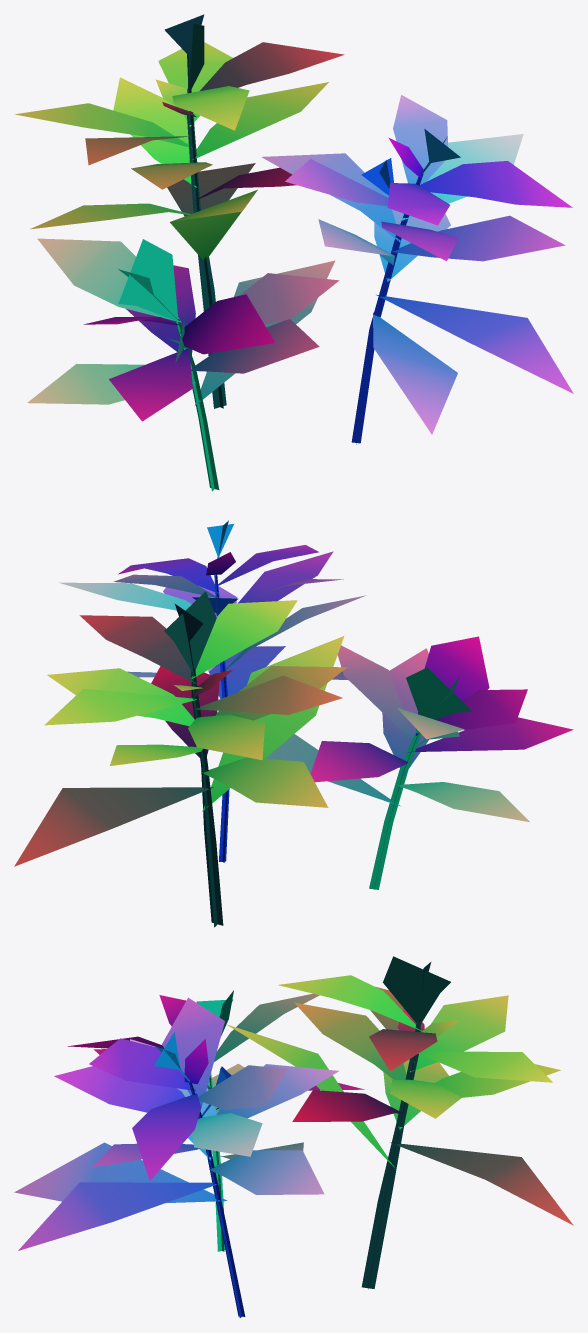
Rendered from xefmcgrqx_VarF_LOD1.fbx.
3 views of the same model, one above another, from view 1: azimuth 30°, elevation 25°; view 2: azimuth 150°, elevation 25°; view 3: azimuth 270°, elevation 25° (orthographic). The views are drawn at different scales.
Parts seen in each view (by area): view 1: _81wx_VarF_LOD4; view 2: _81wx_VarF_LOD4; view 3: _81wx_VarF_LOD4.
Part boxes in pixels (left/top/right/bottom): _81wx_VarF_LOD4: left=15, top=14, right=573, bottom=491; _81wx_VarF_LOD4: left=14, top=520, right=573, bottom=927; _81wx_VarF_LOD4: left=14, top=956, right=573, bottom=1317.
Size of the model in its own units: 57.98 by 40.99 by 62.56.
